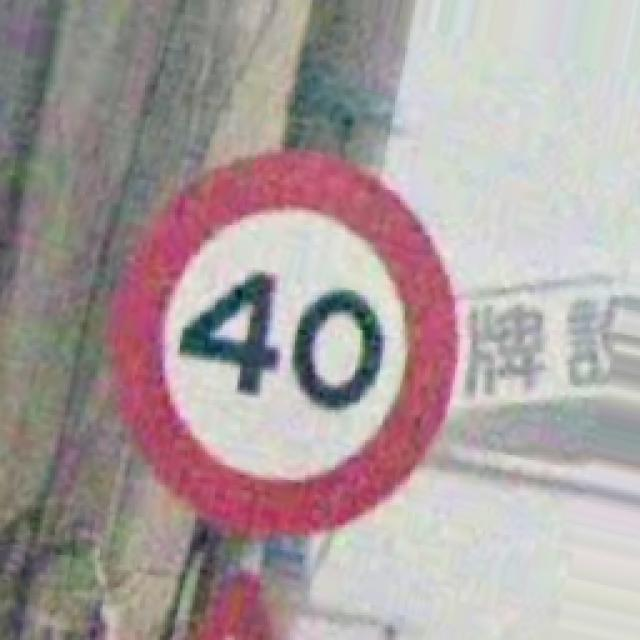Speed Limit -40-: (115, 152, 458, 535)
